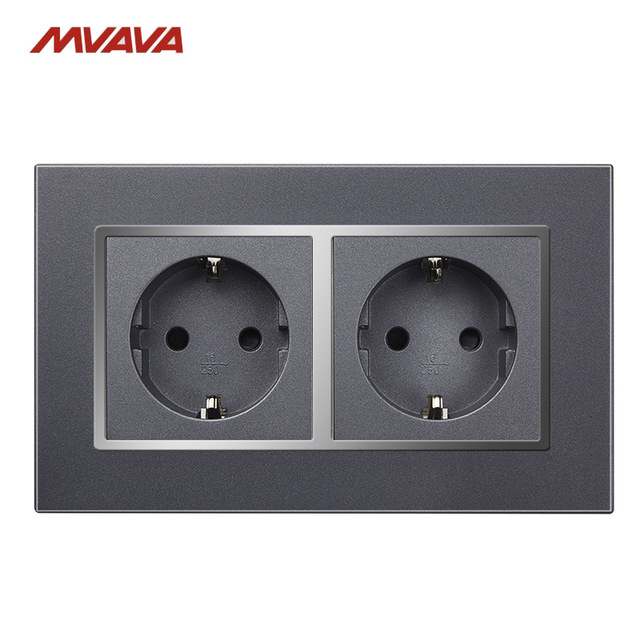raccoon: (353, 248, 520, 427), (126, 250, 292, 425)
